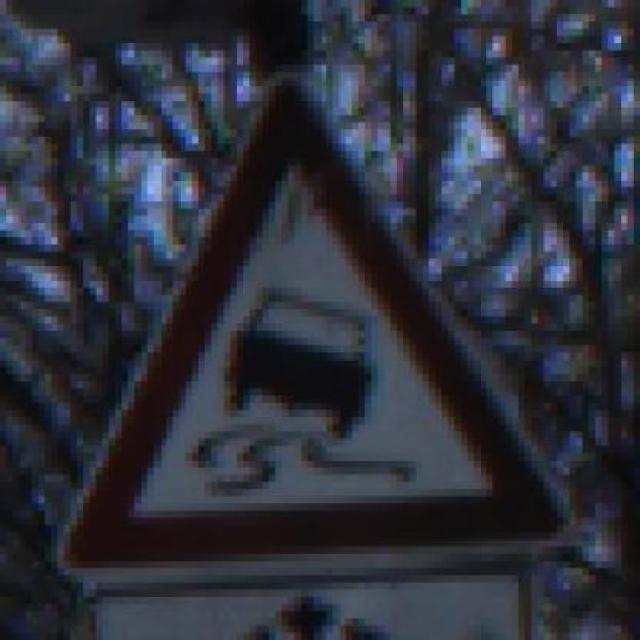Slippery Road Ahead: (52, 64, 576, 576)
